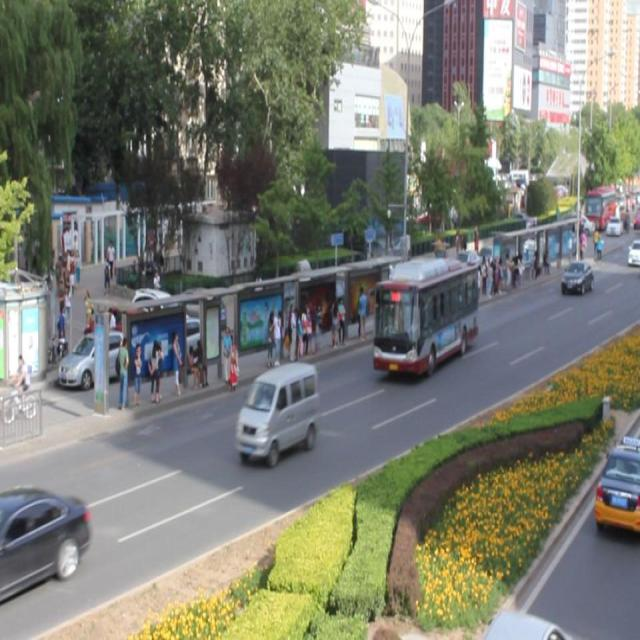car: (1, 483, 93, 593), (560, 258, 592, 294)
truck: (236, 360, 317, 460)
van: (372, 254, 476, 364)
